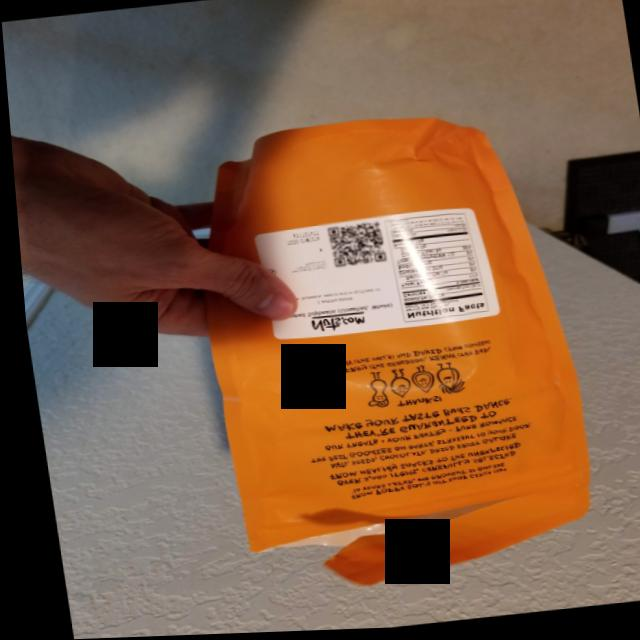QR_CODE: (312, 212, 394, 280)
